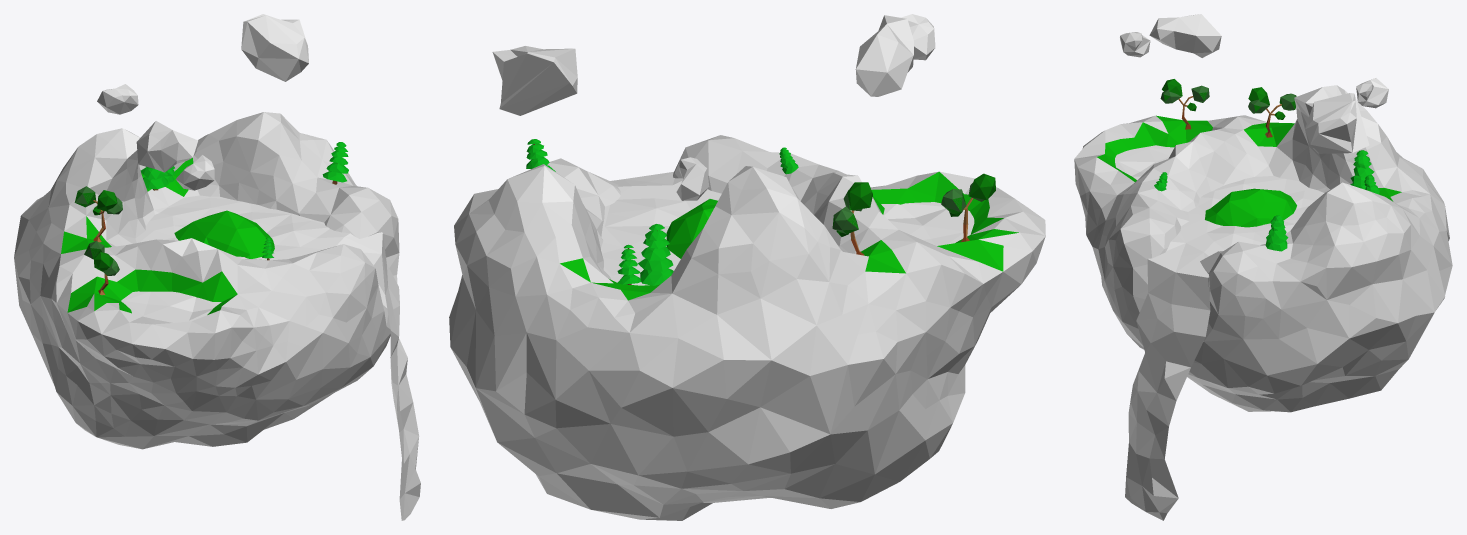
3 renders of one model, left to right at view 1: azimuth 30°, elevation 25°; view 2: azimuth 150°, elevation 25°; view 3: azimuth 270°, elevation 25°, orthographic. The views are drawn at different scales.
Visible parts, largest first — view 1: Icosphere, Plane, Icosphere.003, Icosphere.001, Icosphere.002, Plane.003, Plane.001; view 2: Icosphere, Icosphere.003, Plane, Plane.001, Icosphere.001, Icosphere.002; view 3: Icosphere, Plane, Icosphere.003, Icosphere.001, Icosphere.002, Plane.003, Plane.001.
Boxes of the visible parts, <box> form: Icosphere: <box>14,112,399,449</box>; Plane: <box>121,195,420,520</box>; Icosphere.003: <box>97,14,308,190</box>; Icosphere.001: <box>74,186,122,242</box>; Icosphere.002: <box>84,241,119,295</box>; Plane.003: <box>322,142,348,184</box>; Plane.001: <box>141,166,168,190</box>; Icosphere: <box>449,135,1045,520</box>; Icosphere.003: <box>492,14,935,200</box>; Plane: <box>601,172,974,285</box>; Plane.001: <box>638,224,673,285</box>; Icosphere.001: <box>832,182,872,255</box>; Icosphere.002: <box>941,173,995,242</box>; Icosphere: <box>1074,85,1452,412</box>; Plane: <box>1115,145,1324,520</box>; Icosphere.003: <box>1120,14,1388,153</box>; Icosphere.001: <box>1248,87,1296,137</box>; Icosphere.002: <box>1160,79,1209,129</box>; Plane.003: <box>1265,215,1288,251</box>; Plane.001: <box>1350,150,1374,189</box>.
Bounding box in the file's own units: 2172 × 2464 × 2117.
